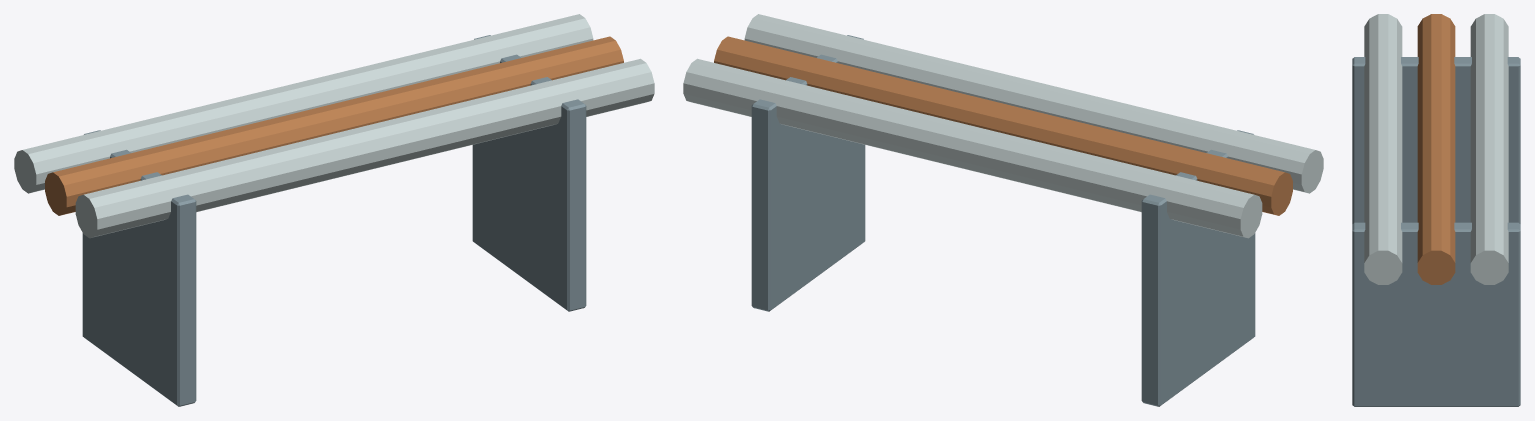
File: Utility_PipeRack_4m.glb
The picture shows the model from 3 angles, left to right: view 1: azimuth 30°, elevation 25°; view 2: azimuth 150°, elevation 25°; view 3: azimuth 270°, elevation 25°; orthographic projection. The views are drawn at different scales.
Parts seen in each view (by area): view 1: Utility_PipeRack_4m_Supports, Utility_PipeRack_4m_Pipe_0, Utility_PipeRack_4m_Pipe_1, Utility_PipeRack_4m_Pipe_2; view 2: Utility_PipeRack_4m_Supports, Utility_PipeRack_4m_Pipe_2, Utility_PipeRack_4m_Pipe_1, Utility_PipeRack_4m_Pipe_0; view 3: Utility_PipeRack_4m_Supports, Utility_PipeRack_4m_Pipe_1, Utility_PipeRack_4m_Pipe_0, Utility_PipeRack_4m_Pipe_2.
Part boxes in pixels (x1,y1,x2,y2): Utility_PipeRack_4m_Supports: [82, 35, 586, 406]; Utility_PipeRack_4m_Pipe_0: [75, 58, 654, 238]; Utility_PipeRack_4m_Pipe_1: [45, 36, 623, 215]; Utility_PipeRack_4m_Pipe_2: [14, 14, 593, 193]; Utility_PipeRack_4m_Supports: [751, 35, 1255, 406]; Utility_PipeRack_4m_Pipe_2: [683, 58, 1262, 238]; Utility_PipeRack_4m_Pipe_1: [714, 36, 1292, 215]; Utility_PipeRack_4m_Pipe_0: [744, 14, 1323, 193]; Utility_PipeRack_4m_Supports: [1352, 57, 1520, 406]; Utility_PipeRack_4m_Pipe_1: [1417, 14, 1455, 284]; Utility_PipeRack_4m_Pipe_0: [1364, 14, 1402, 284]; Utility_PipeRack_4m_Pipe_2: [1470, 14, 1508, 284].
Size of the model in its own units: 4 by 1.49 by 1.2.
